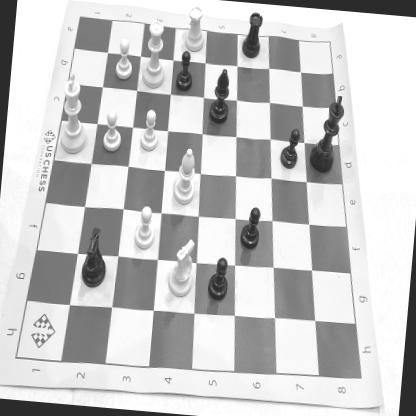black-bishop: (205, 64, 235, 126)
black-king: (306, 91, 349, 179)
black-pawn: (237, 202, 264, 255), (206, 253, 233, 304), (278, 126, 302, 175), (173, 48, 198, 94)
black-rook: (238, 6, 267, 64)
white-bishop: (170, 142, 201, 209)
white-king: (54, 67, 94, 158)
white-knight: (164, 233, 200, 302), (78, 223, 112, 293)
white-pawn: (131, 199, 159, 254), (98, 108, 127, 157), (136, 106, 164, 156), (112, 36, 137, 84)
white-queen: (140, 17, 171, 93)
white-rook: (181, 1, 209, 57)
